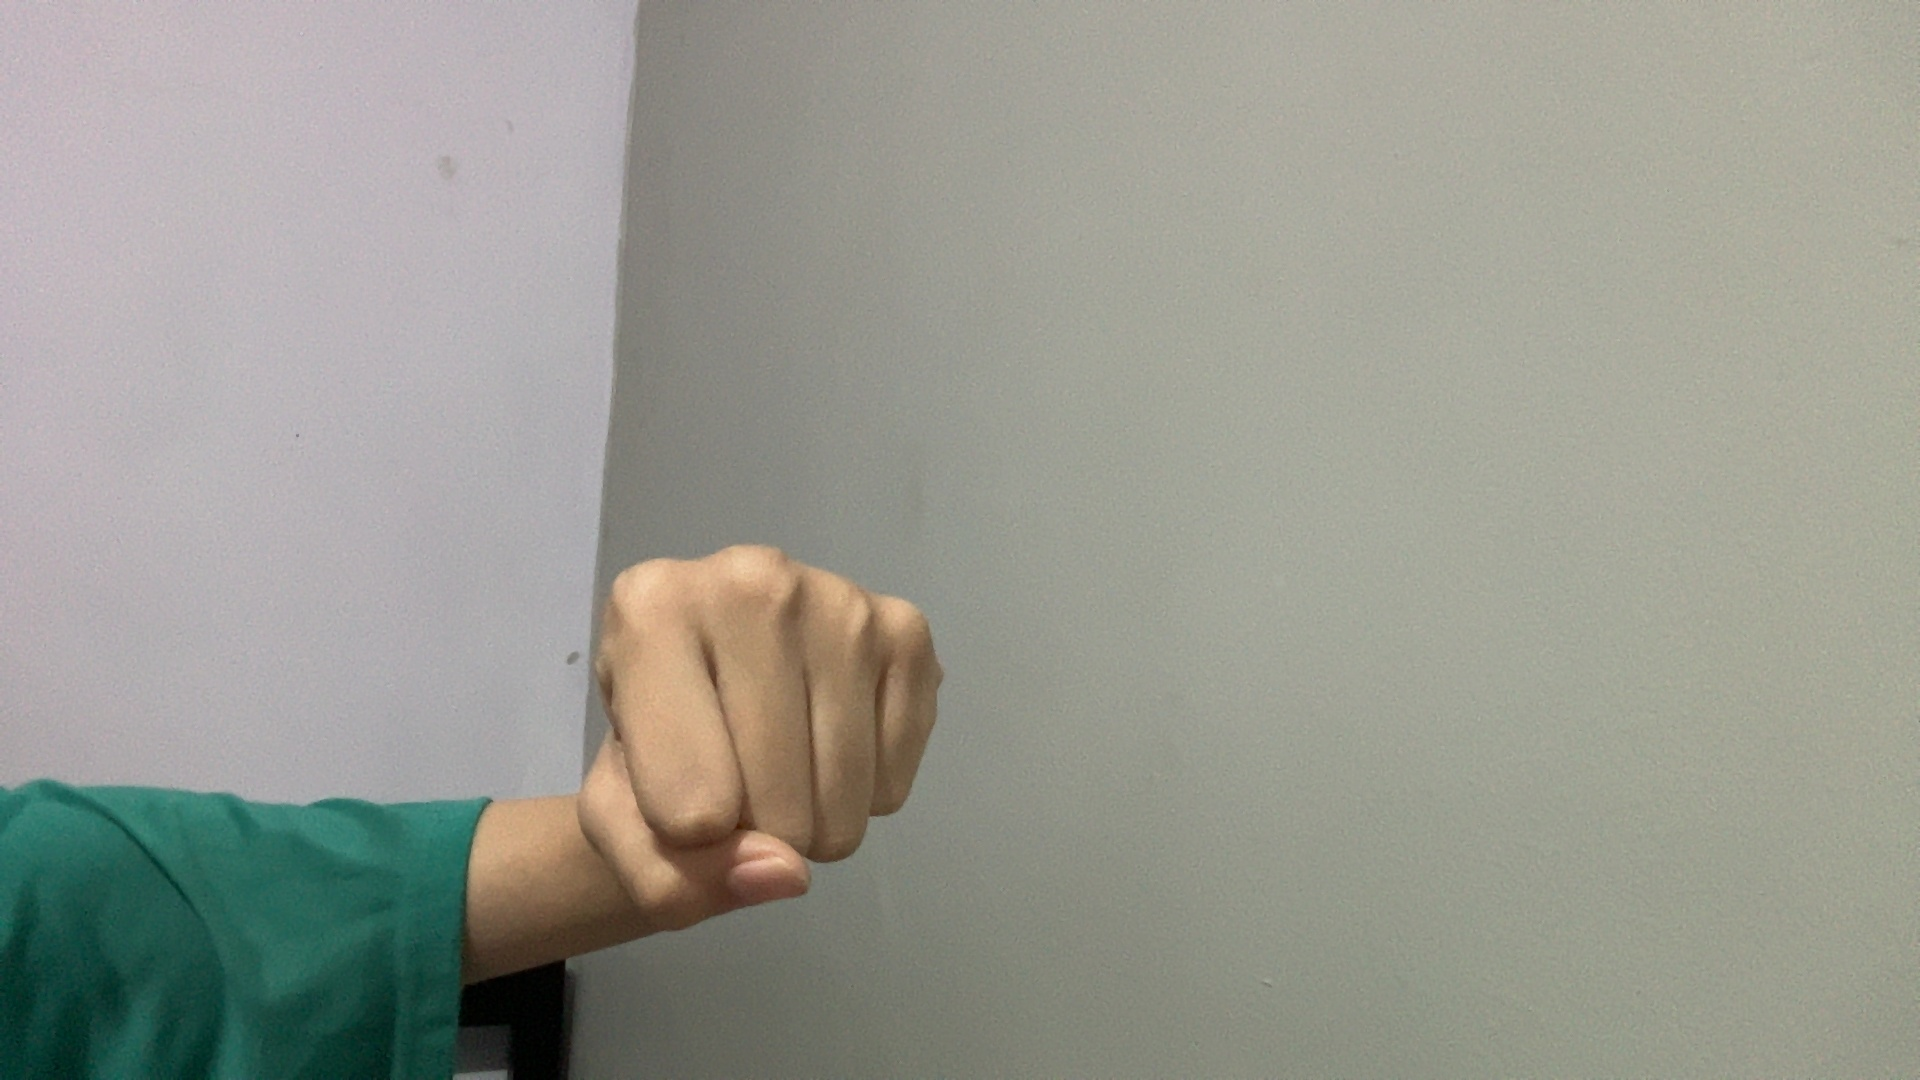Yes: (425, 467, 1087, 990)
